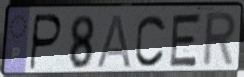8: (68, 14, 97, 71)
A: (95, 12, 133, 70)
C: (133, 13, 168, 69)
E: (167, 11, 204, 69)
P: (27, 13, 64, 73)
R: (200, 10, 239, 70)
